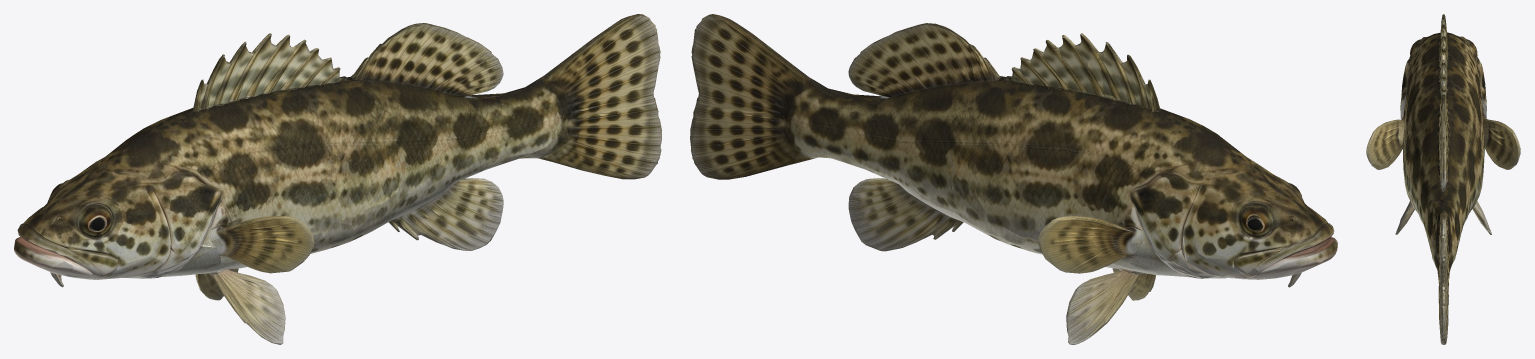
Rendered from fishMandarin.glb.
3 views of the same model, side by side, from view 1: azimuth 30°, elevation 25°; view 2: azimuth 150°, elevation 25°; view 3: azimuth 270°, elevation 25° (orthographic). The views are drawn at different scales.
Parts seen in each view (by area): view 1: Mesh_0; view 2: Mesh_0; view 3: Mesh_0.
Part boxes in pixels (left/top/right/bottom): Mesh_0: left=14, top=14, right=661, bottom=344; Mesh_0: left=690, top=14, right=1337, bottom=344; Mesh_0: left=1366, top=14, right=1520, bottom=344.
Bounding box in the file's own units: 0.4 × 0.1687 × 0.1083.
1 material, 1 textured.
